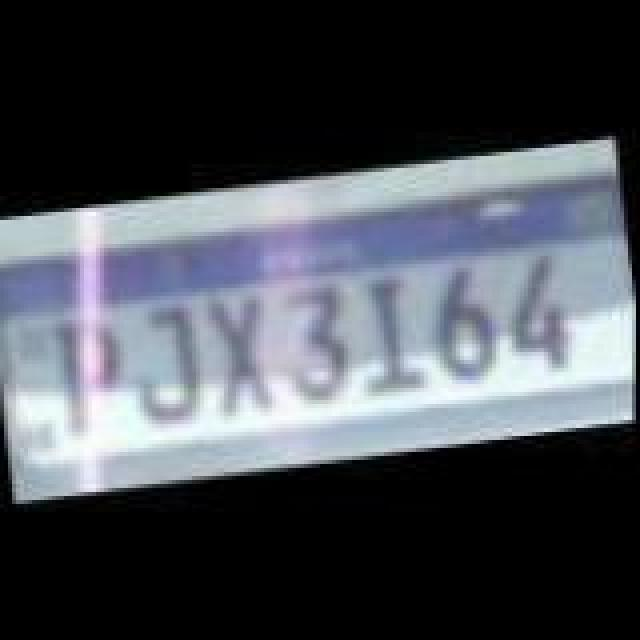3: (280, 280, 360, 412)
4: (496, 246, 584, 370)
6: (424, 258, 512, 386)
I: (346, 264, 430, 396)
J: (130, 302, 214, 430)
P: (60, 312, 140, 440)
X: (200, 288, 280, 420)
